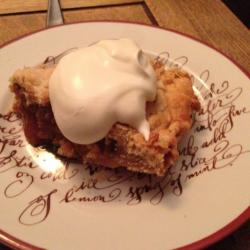apple_pie: (7, 59, 209, 186)
icecream: (48, 35, 160, 149)
